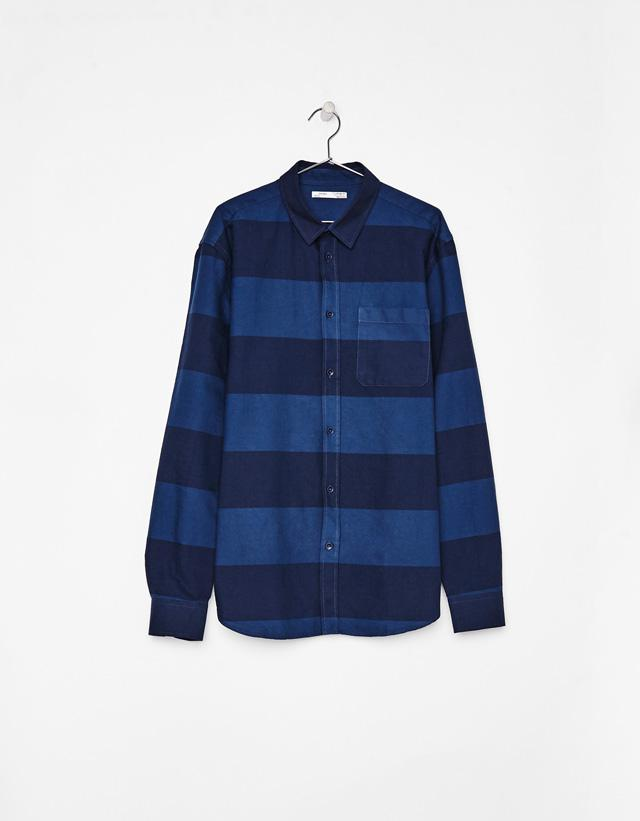teeshirt: (120, 152, 530, 665)
